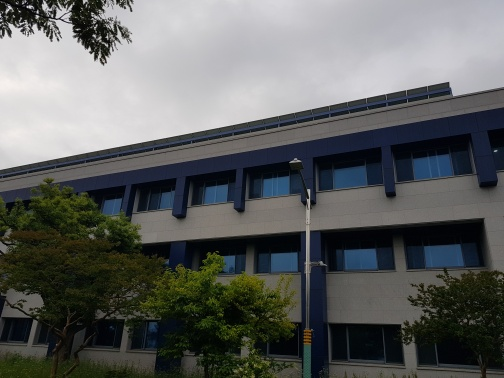College of Social Sciences: (43, 73, 492, 367)
